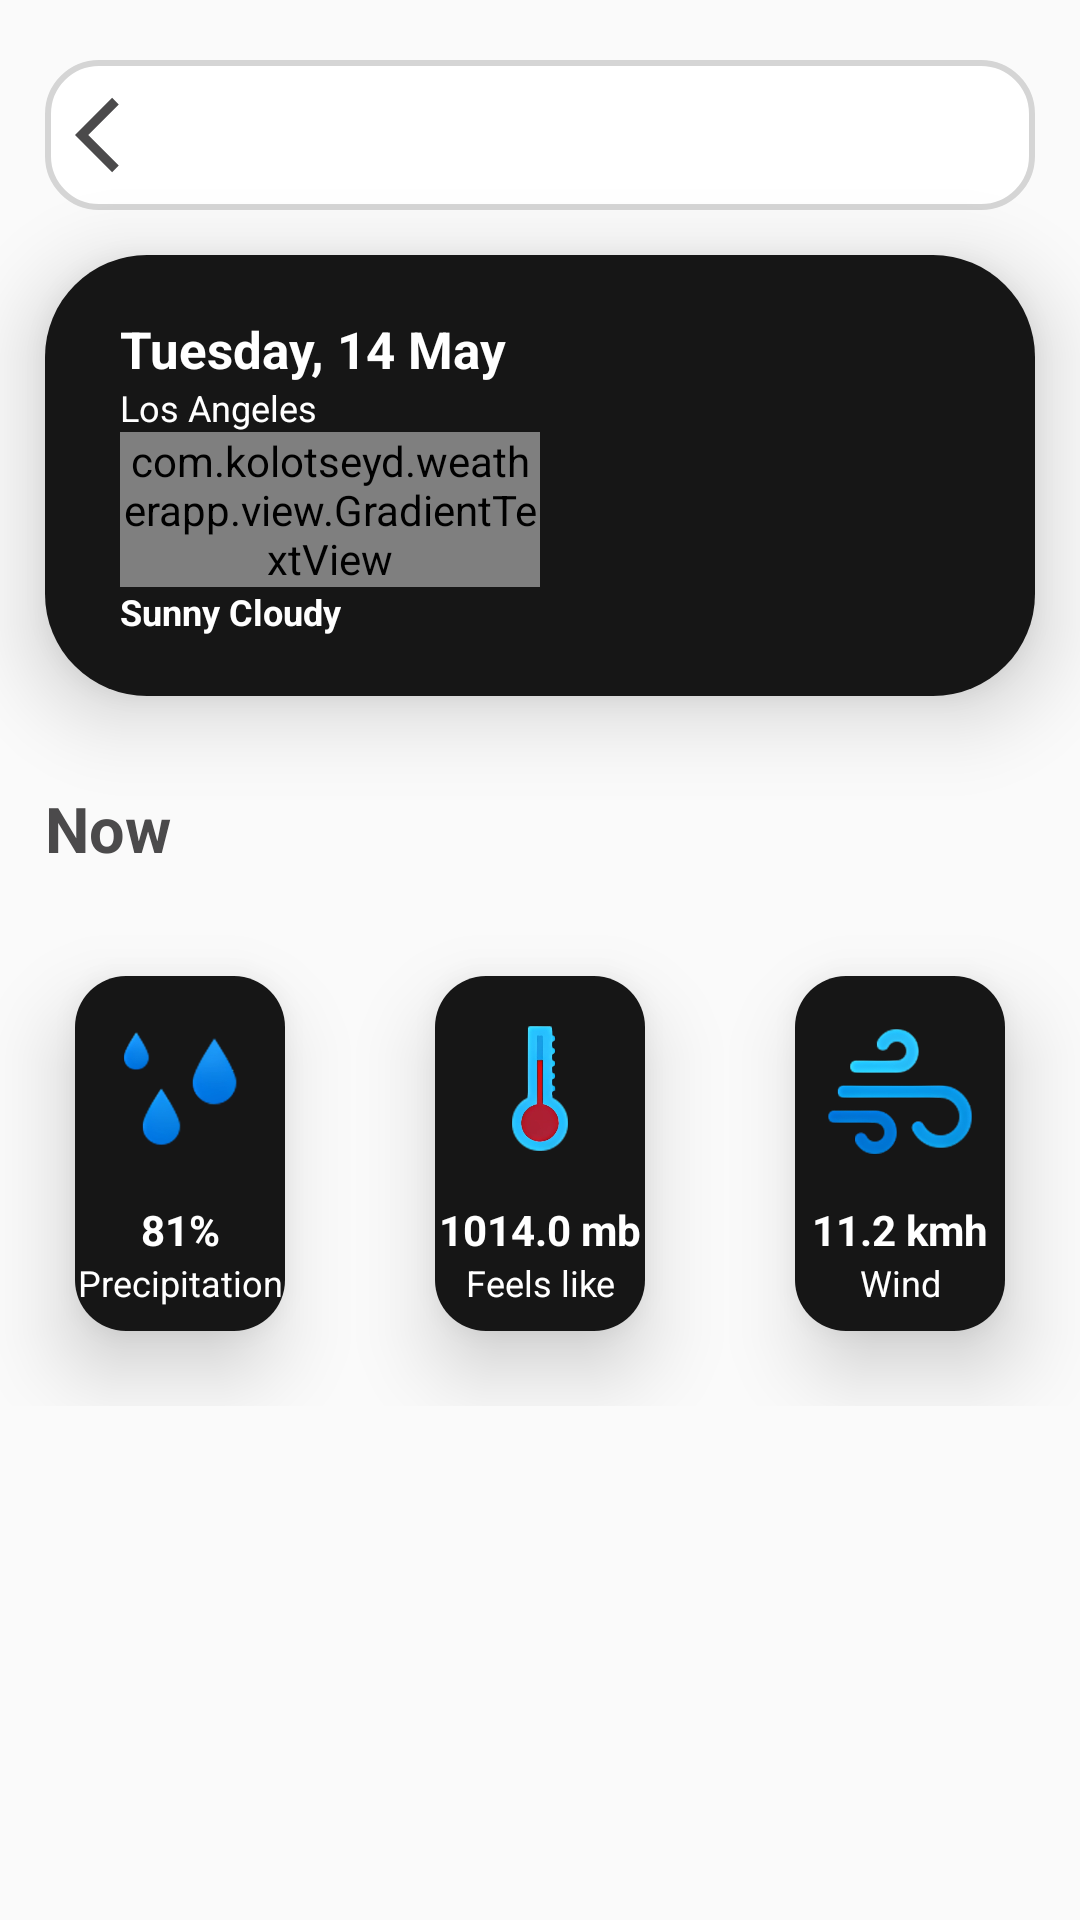

Where icons sit on this 1080 x 1920 app screen, as (left=x1, top=y1, right=x2, bottom=y2):
arrow back: (left=45, top=60, right=195, bottom=210)
thermometer: (left=435, top=976, right=645, bottom=1201)
wet: (left=75, top=976, right=285, bottom=1201)
